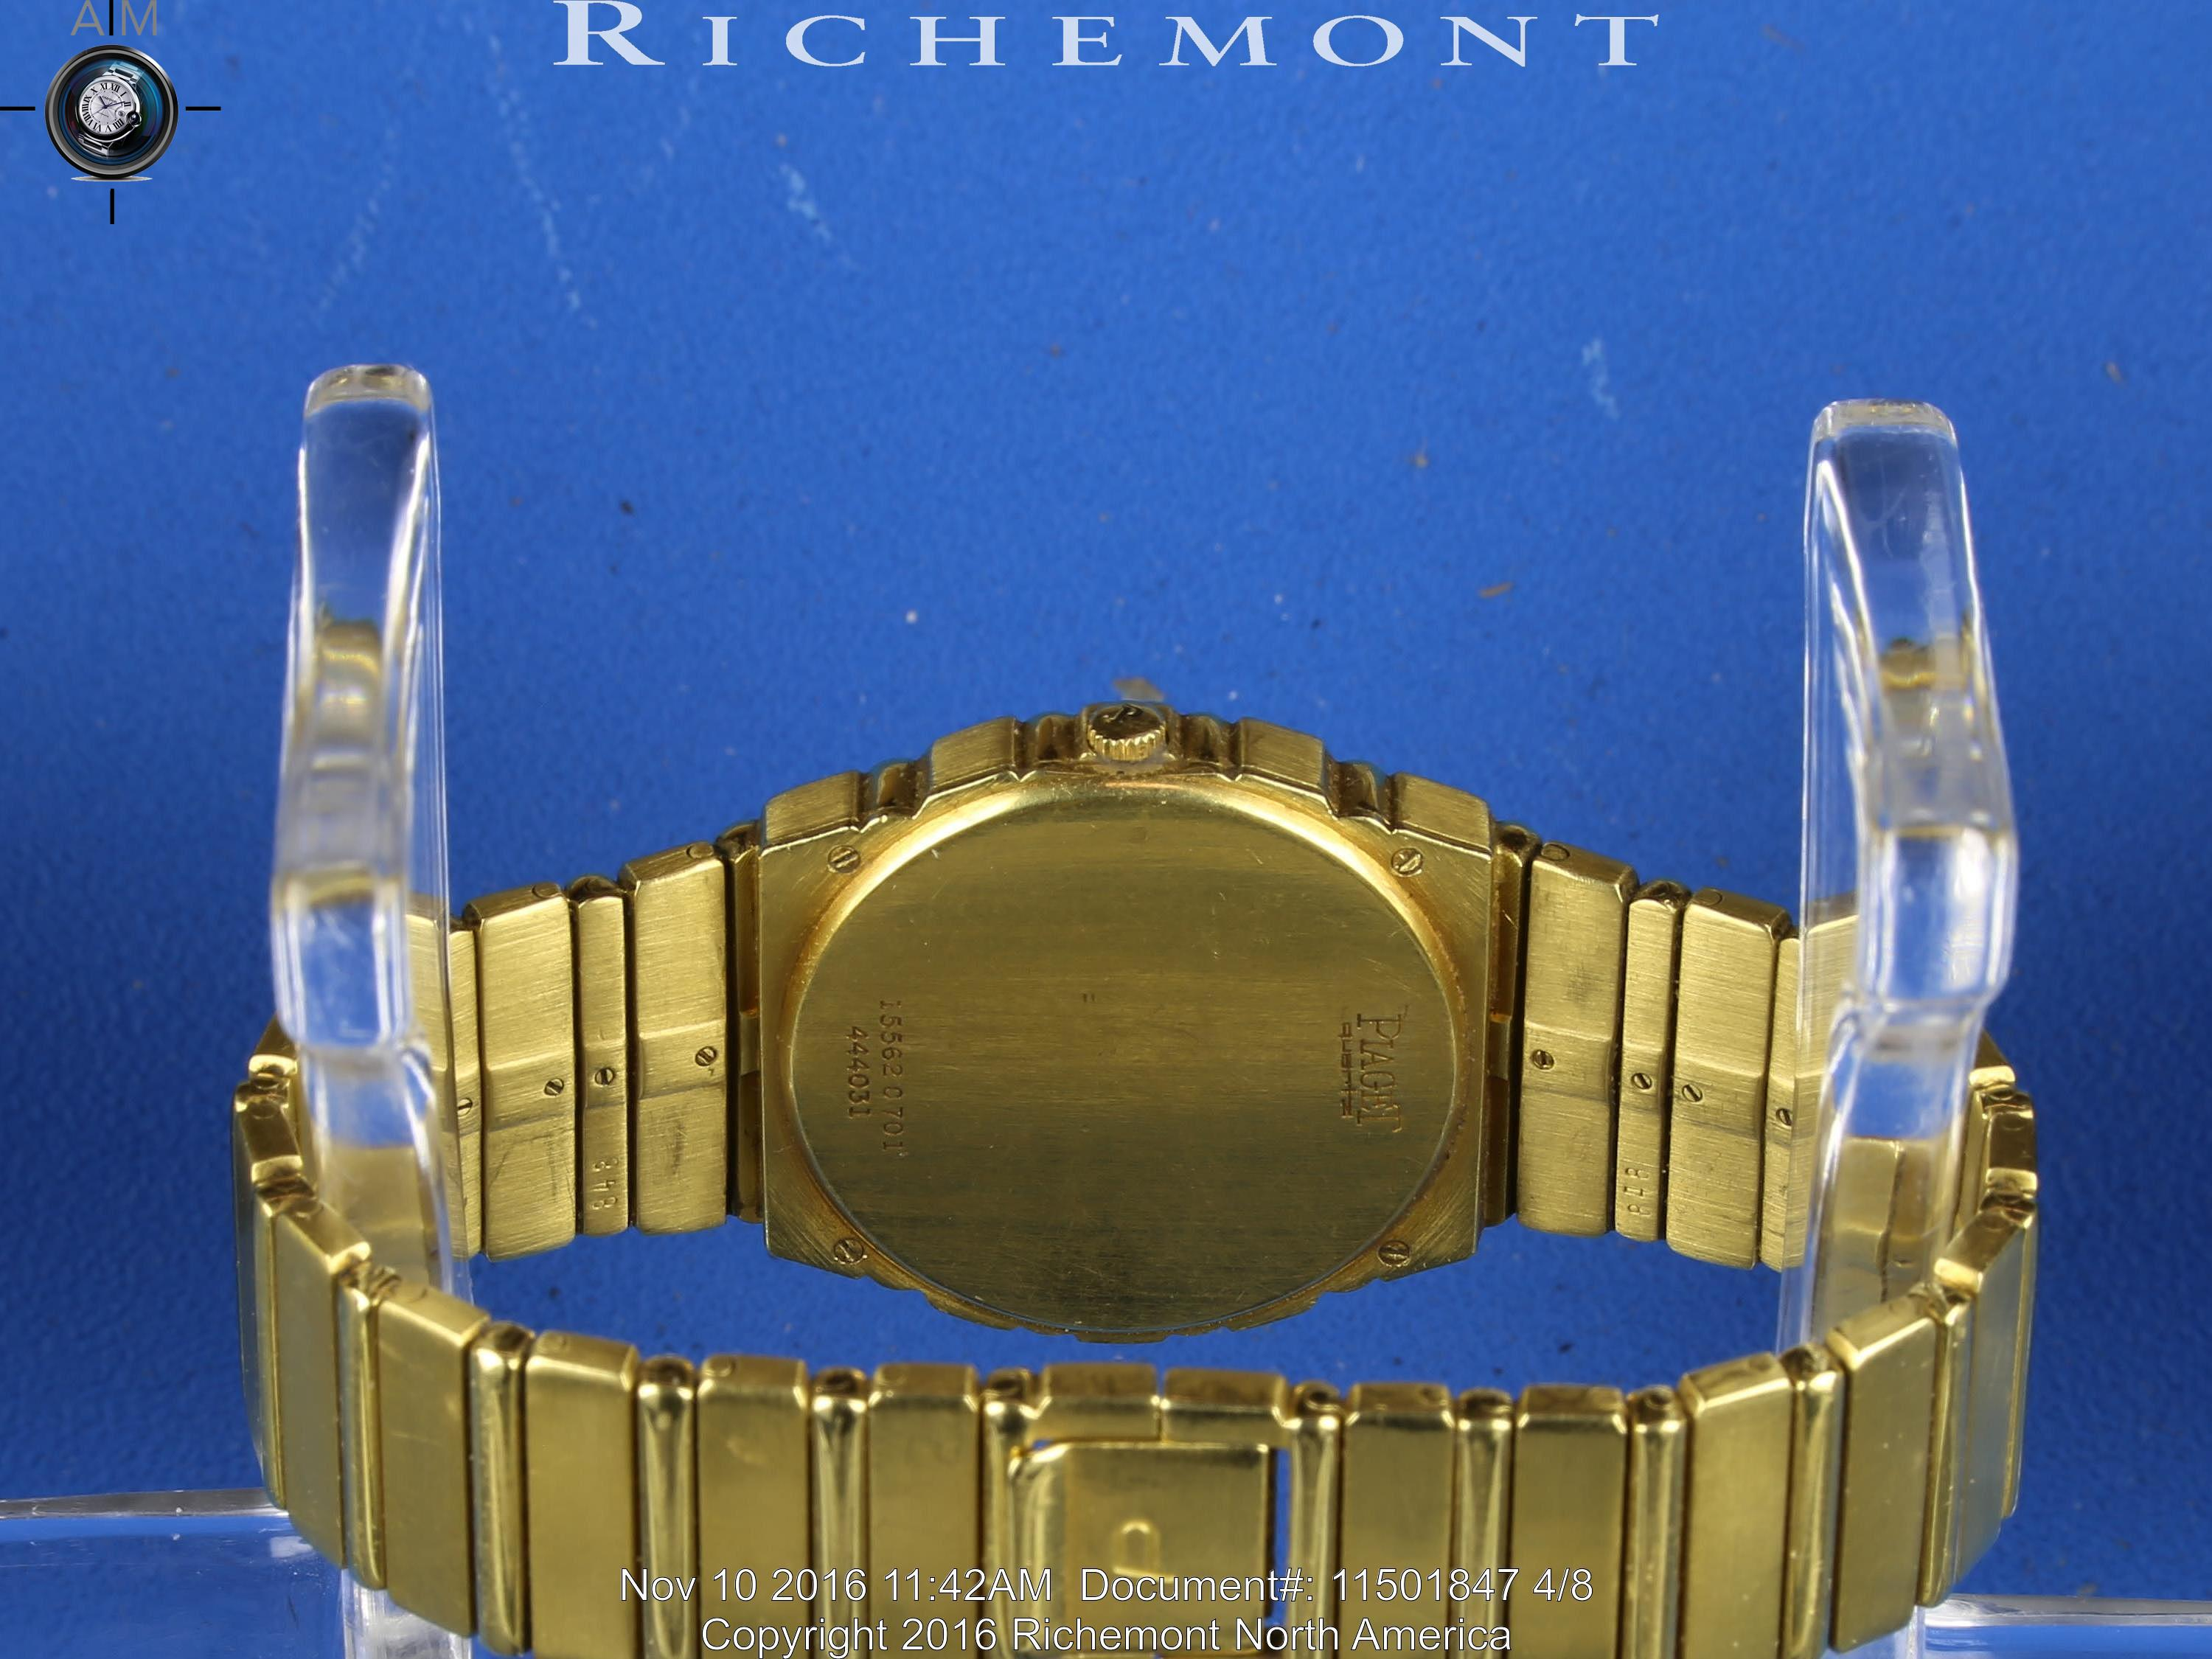Watch BackCase: (740, 681, 1500, 1359)
